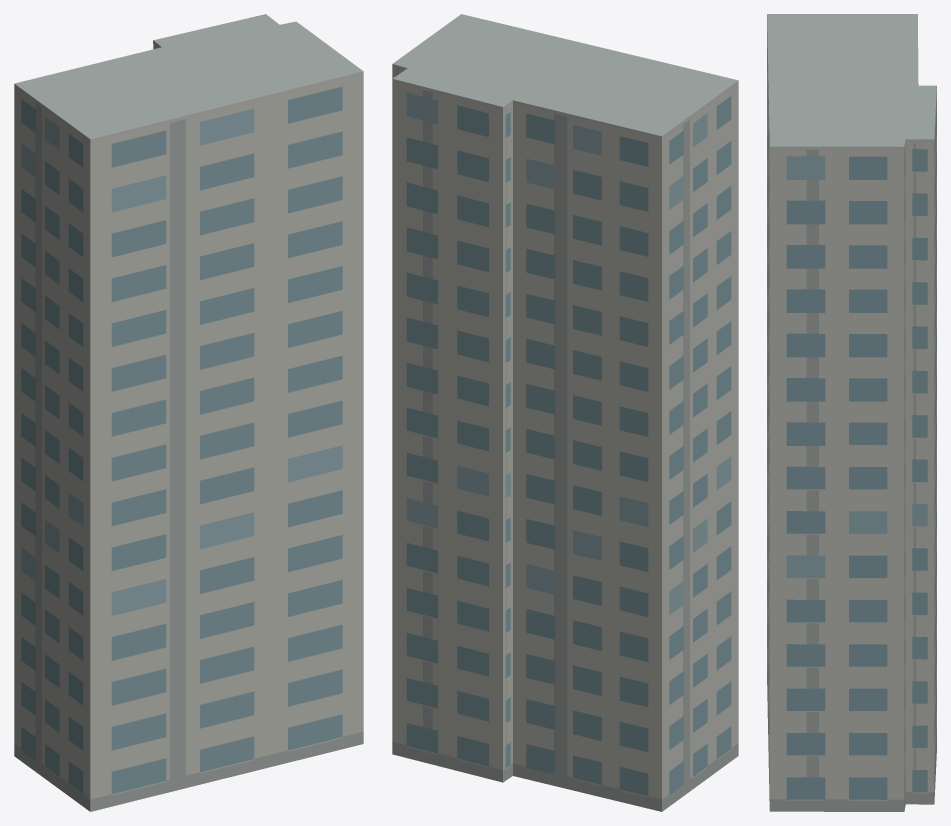
File: residential-e0f731fa-5653-44a1-b14a-d78d8efe6fcc.glb
The picture shows the model from 3 angles, left to right: view 1: azimuth 30°, elevation 25°; view 2: azimuth 150°, elevation 25°; view 3: azimuth 270°, elevation 25°; orthographic projection.
Visible parts, largest first — view 1: residential-e0f731fa-5653-44a1-b14a-d78d8efe6fcc.tmp; view 2: residential-e0f731fa-5653-44a1-b14a-d78d8efe6fcc.tmp; view 3: residential-e0f731fa-5653-44a1-b14a-d78d8efe6fcc.tmp.
Boxes of the visible parts, x1=… form: residential-e0f731fa-5653-44a1-b14a-d78d8efe6fcc.tmp: x1=14, y1=14, x2=363, y2=811; residential-e0f731fa-5653-44a1-b14a-d78d8efe6fcc.tmp: x1=392, y1=14, x2=738, y2=811; residential-e0f731fa-5653-44a1-b14a-d78d8efe6fcc.tmp: x1=767, y1=14, x2=936, y2=811.
Bounding box in the file's own units: 21 × 49 × 11.34.
